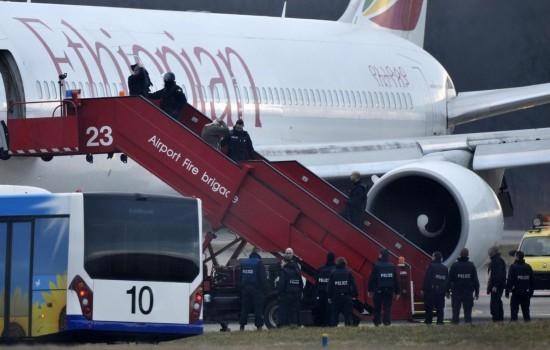airplane: (241, 252, 268, 329), (371, 249, 398, 326), (454, 248, 481, 322), (424, 252, 451, 324), (330, 257, 358, 325), (511, 249, 537, 321), (277, 258, 302, 327), (485, 246, 508, 320), (158, 70, 190, 120), (346, 169, 371, 229), (228, 118, 256, 163), (202, 115, 226, 154), (129, 59, 150, 98)
